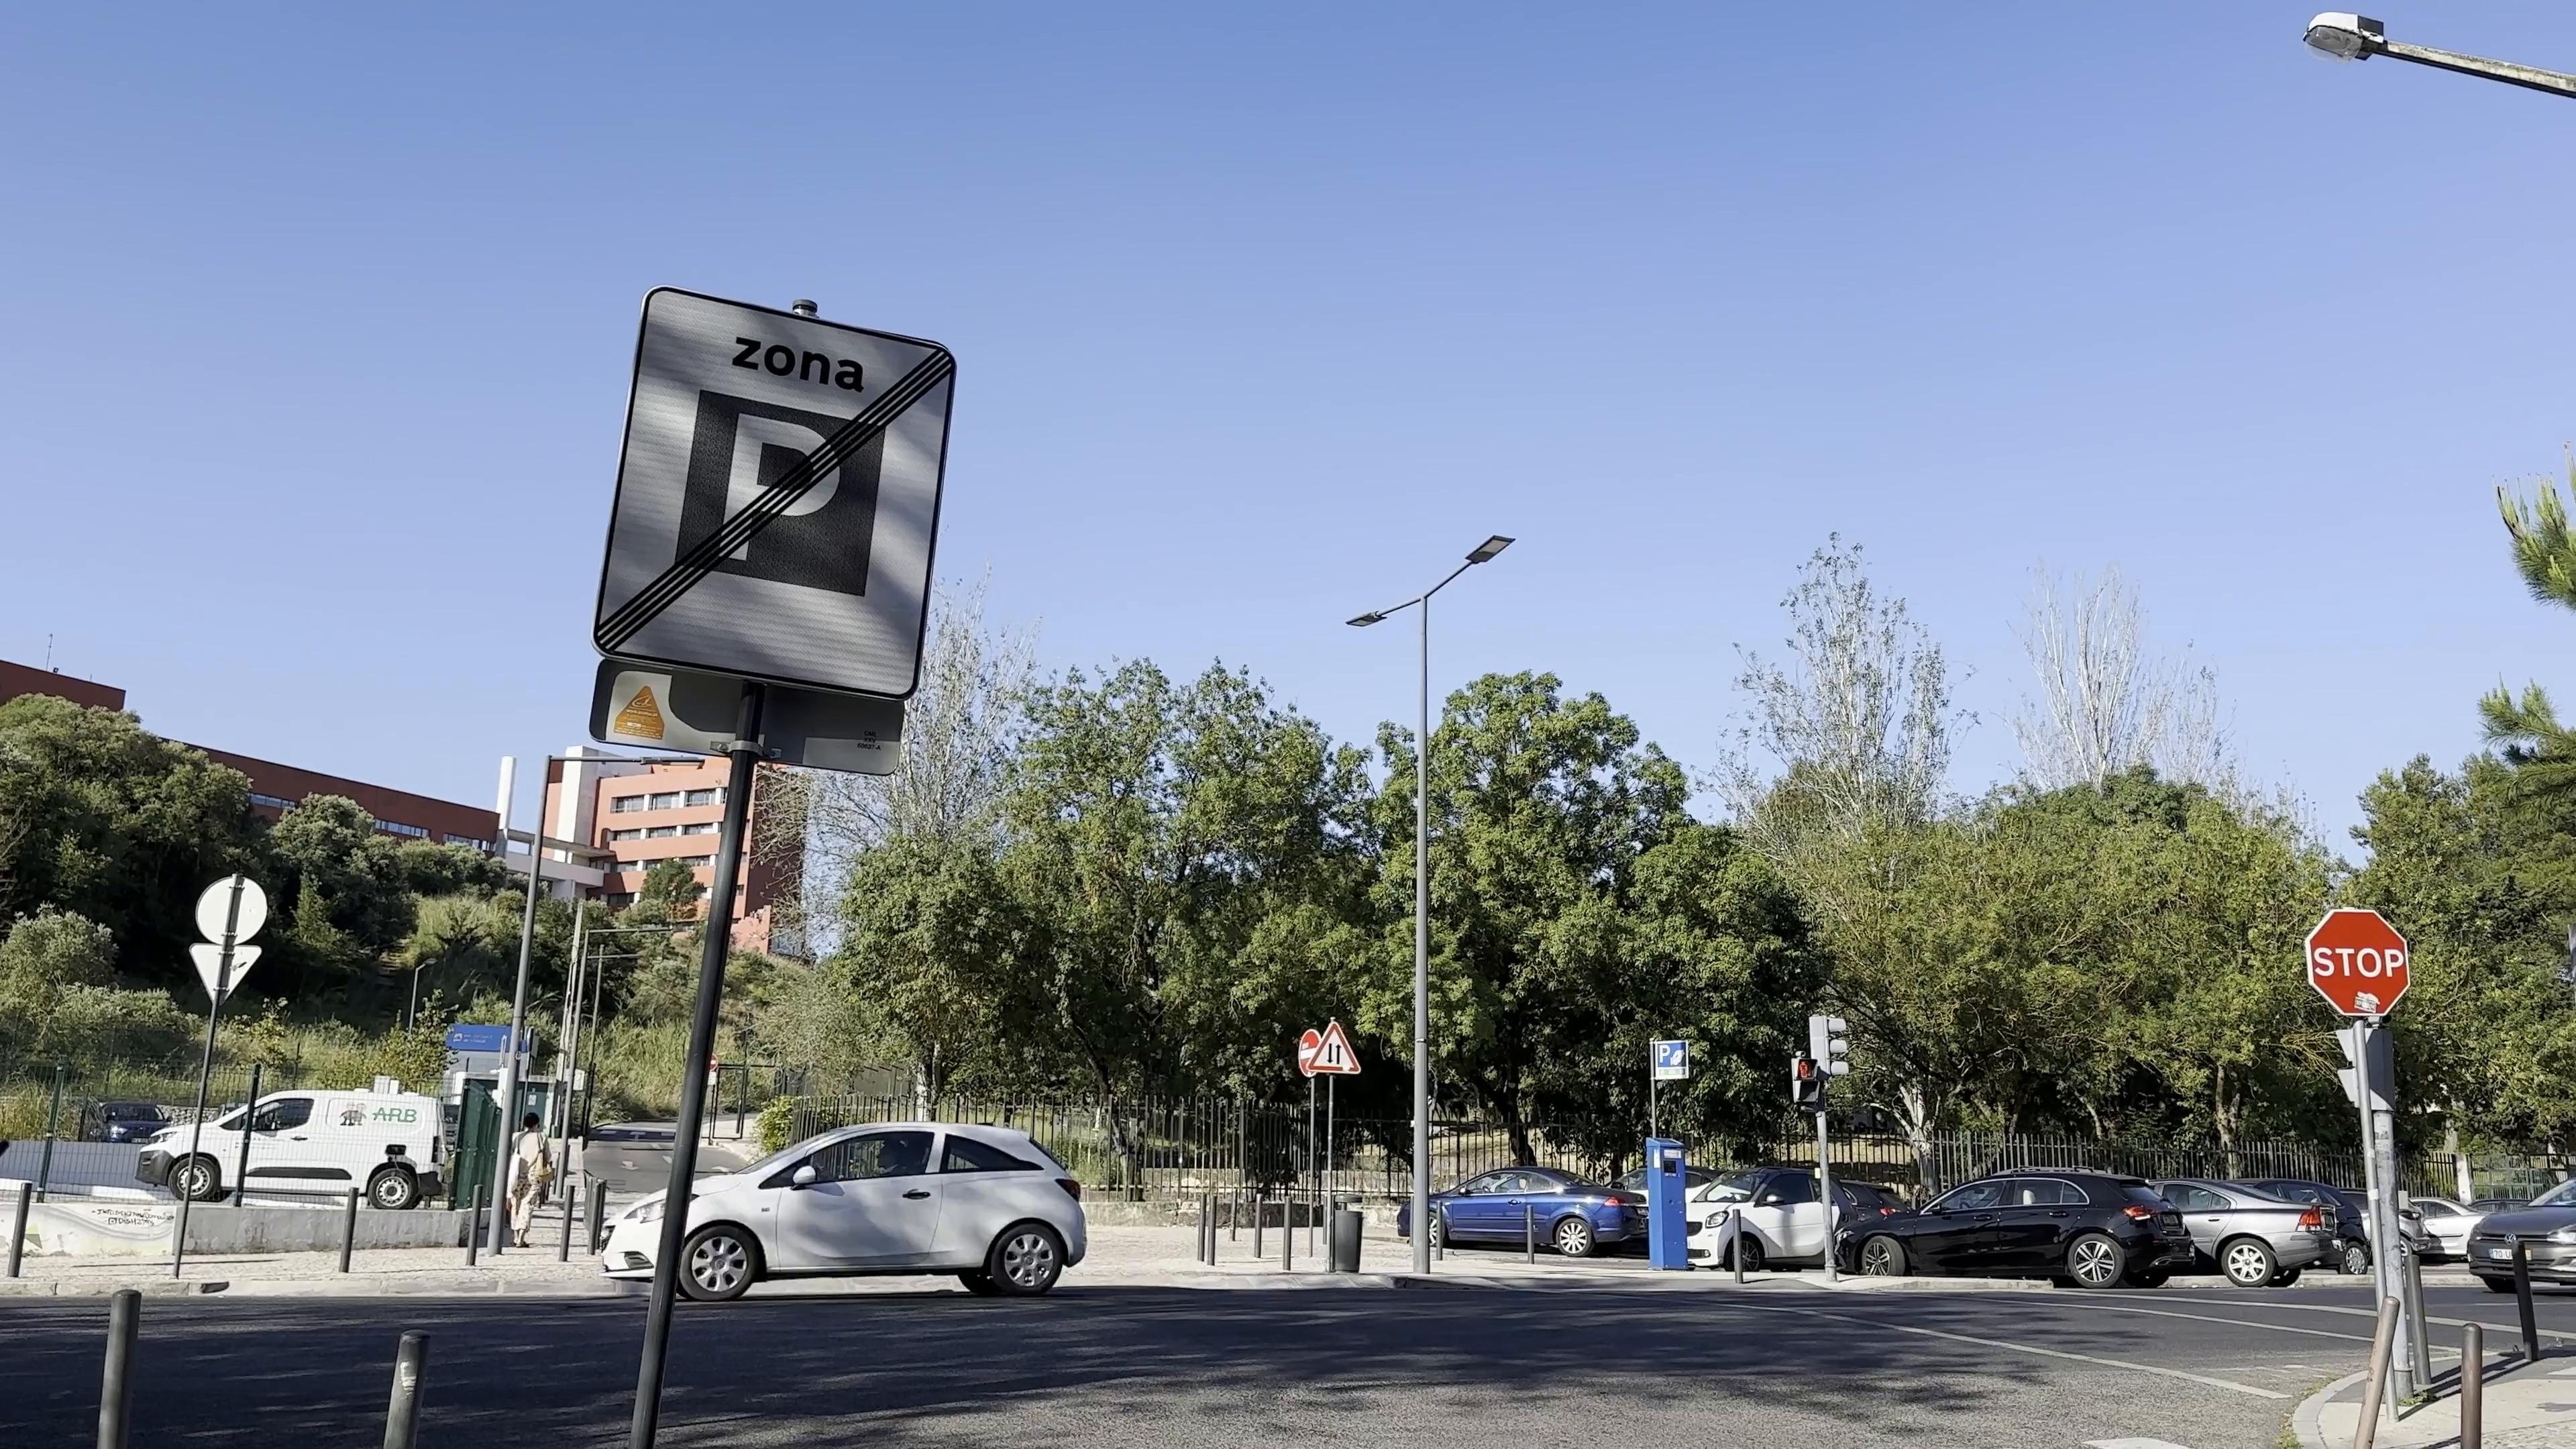fim de zona de estacionamento autorizado: (586, 260, 957, 678)
